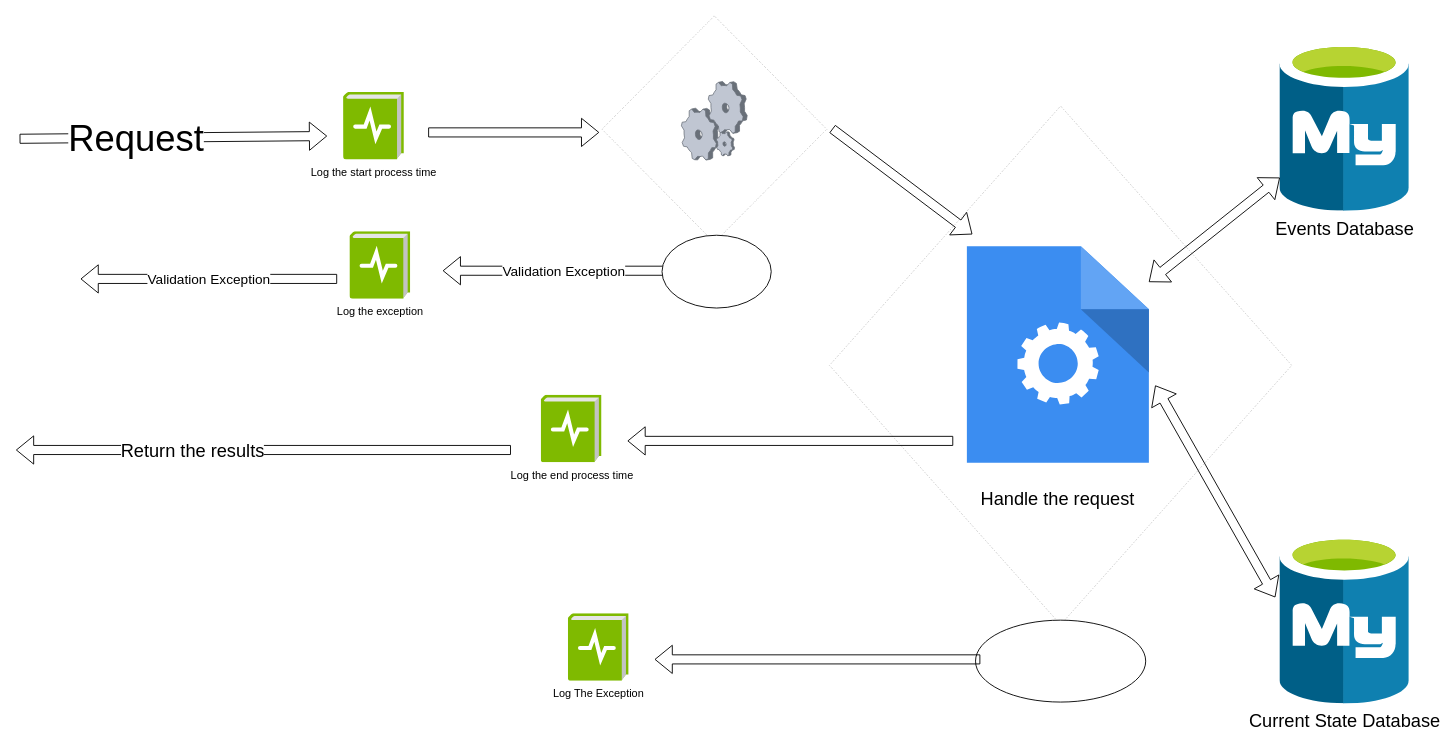
Some shapes in this 1456 by 748 pixel diagram are drawn without their labels. The centre of each missing label's shape, as x and y in pixels:
"If Failed" goes at point (716, 271).
"If There is any exceptions" goes at point (1060, 660).
"Validate the request" goes at point (714, 120).
